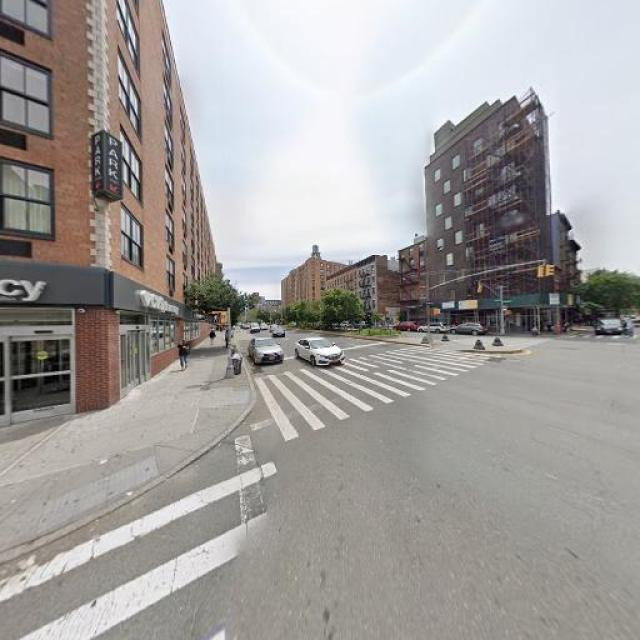Building: (1, 1, 215, 424), (429, 93, 542, 333), (327, 267, 357, 324), (400, 244, 420, 327), (359, 258, 376, 325)
